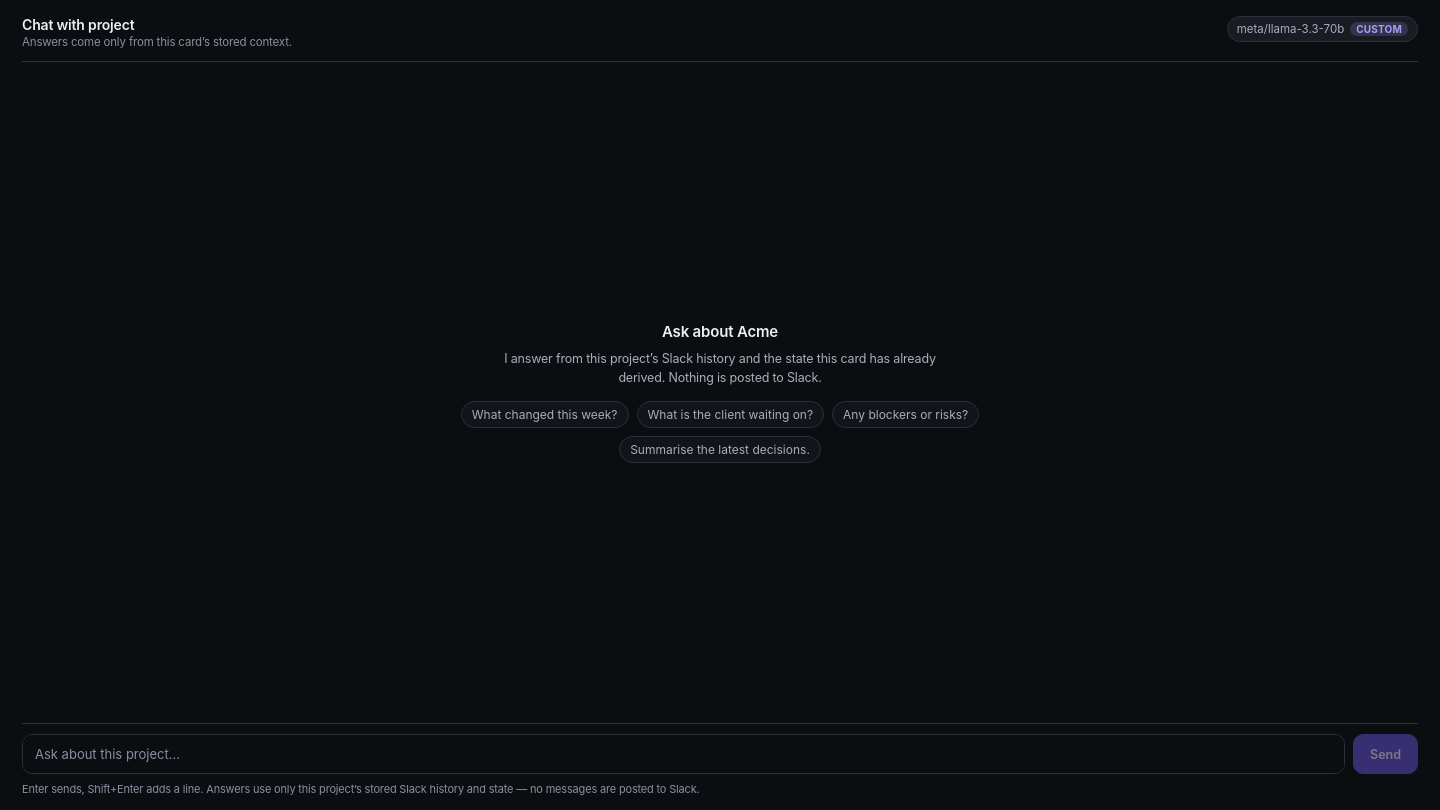
Test: AgentChatPanel › surfaces a rejected start and removes the optimistic user turn
Expected: the text "Ask about Acme" is shown, [662,322,778,341]
Type "What changed?" into the text box labelled "Ask about this project" at (684, 754), box [22,734,1345,774]
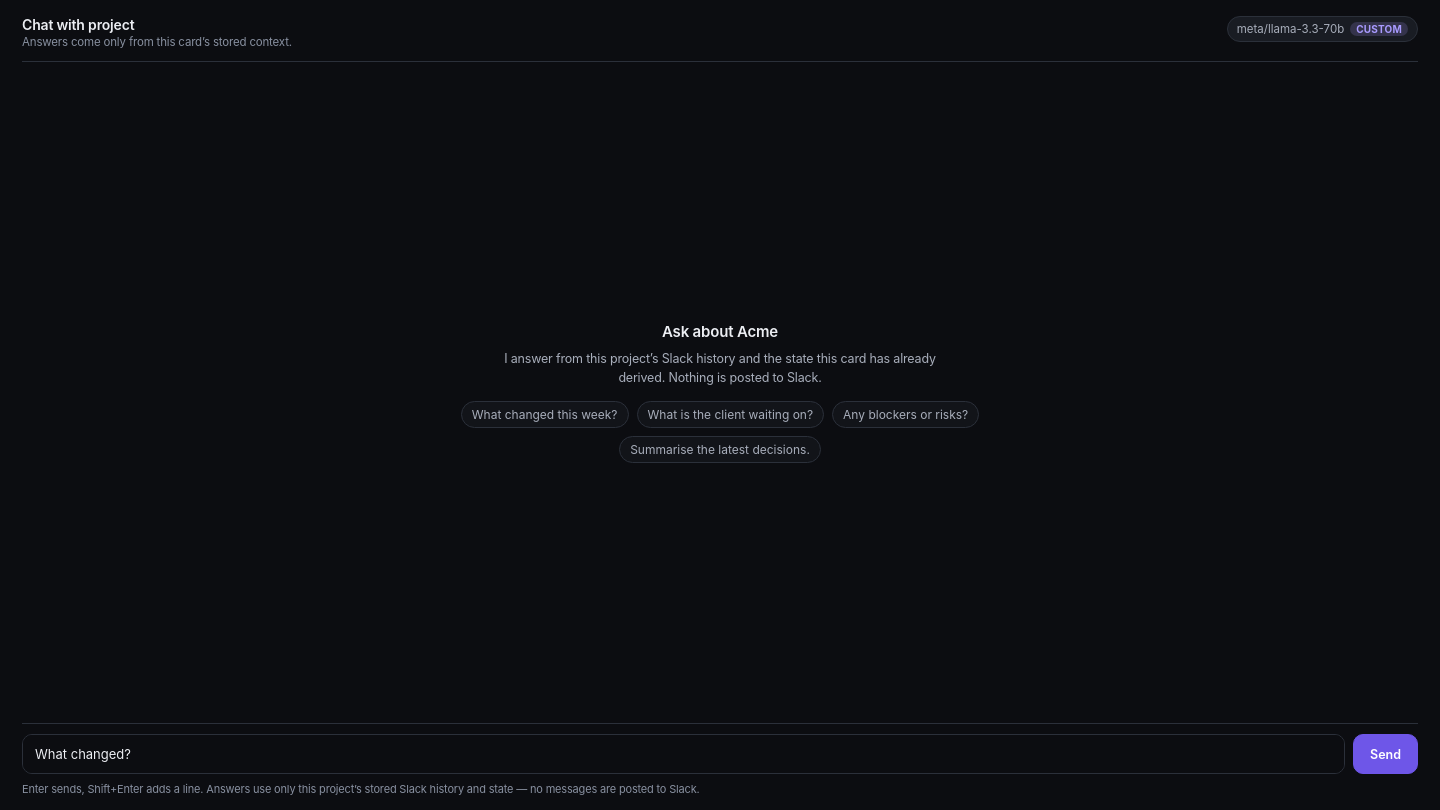
Click the button "Send" at (1386, 754), box [1353,734,1418,774]
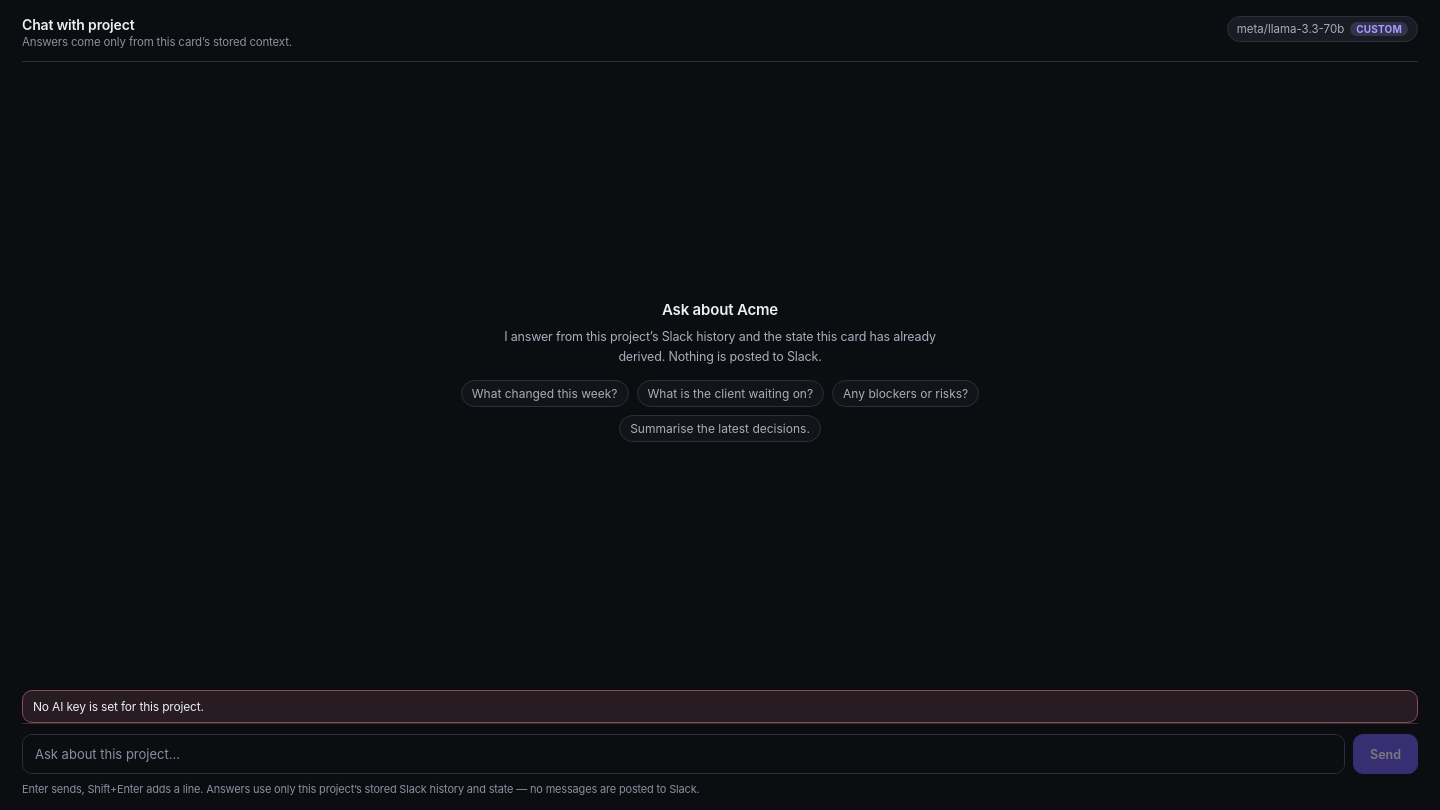
Expected: the text "What changed?" is not shown
Expected: the message reads "No AI key is set for this project.", [33,699,204,714]
